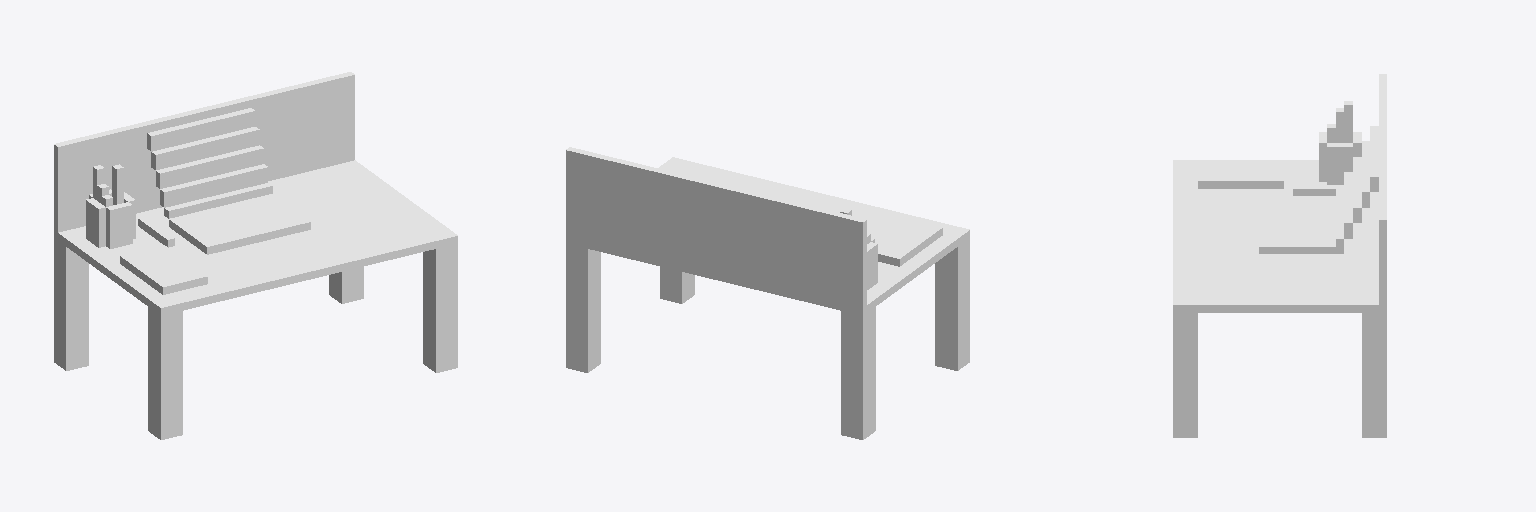
The model's file is laz_table_laptop.obj.
The picture shows the model from 3 angles: view 1: azimuth 30°, elevation 25°; view 2: azimuth 150°, elevation 25°; view 3: azimuth 270°, elevation 25°; orthographic projection.
Parts seen in each view (by area): view 1: object 1; view 2: object 1; view 3: object 1.
Boxes of the visible parts, <box> form: object 1: <box>54,72,457,439</box>; object 1: <box>566,147,969,439</box>; object 1: <box>1173,74,1386,437</box>.
Size of the model in its own units: 4 by 2.8 by 2.5.